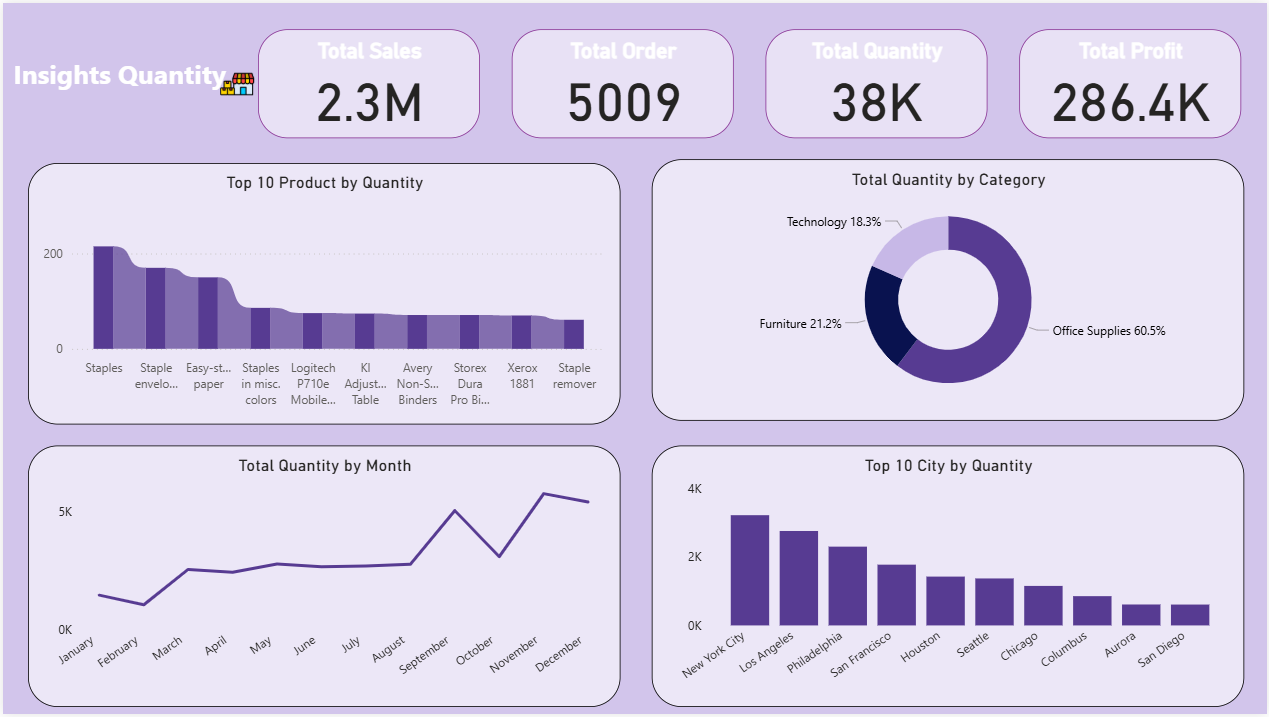

The page's visual inventory and layout, read from the dashboard file:
{"tool":"powerbi","page":{"name":"Page 6","canvas":[1280,720],"ordinal":5},"visuals":[{"type":"card","title":"Total Order","fields":{"Values":["Dax_Measure.Total orders"]},"box":[515.7,27,225,110],"z":0},{"type":"card","title":"Total Sales","fields":{"Values":["Dax_Measure.Total Sales"]},"box":[258.8,27,225,110],"z":1},{"type":"card","title":"Total Quantity","fields":{"Values":["Dax_Measure.Total Quantity"]},"box":[772.7,27,225,110],"z":2},{"type":"card","title":"Total Profit","fields":{"Values":["Dax_Measure.Total Profit"]},"box":[1029.7,27,225,110],"z":3},{"type":"textbox","box":[0,48.1,236.7,49.4],"z":4},{"type":"ribbonChart","title":"Top 10 Product by Quantity","fields":{"Category":["ProductDim.Product Name"],"Y":["Dax_Measure.Total Quantity"]},"box":[25.3,162,600,265],"z":5},{"type":"columnChart","title":"Top 10 City by Quantity","fields":{"Y":["Dax_Measure.Total Quantity"],"Category":["CustomerDim.City"]},"box":[657.5,447.6,600,265],"z":6},{"type":"donutChart","fields":{"Y":["Dax_Measure.Total Quantity"],"Category":["ProductDim.Category"]},"box":[657.5,158,600,265],"z":7},{"type":"lineChart","fields":{"Category":["DateDim.Order Date.Variation.Date Hierarchy.Year","DateDim.Order Date.Variation.Date Hierarchy.Quarter","DateDim.Order Date.Variation.Date Hierarchy.Month","DateDim.Order Date.Variation.Date Hierarchy.Day"],"Y":["Dax_Measure.Total Quantity"]},"box":[25.3,448.1,600,264.6],"z":8},{"type":"image","box":[215.2,48.1,44.3,68.4],"z":9}]}

Visuals, with their boxes in screenshot pixels (x1, y1, x2, y2), scaled from the page's 1280x720 canvas onto the 1269x717 screenshot:
"Total Order" card: 511/27/734/136
"Total Sales" card: 257/27/480/136
"Total Quantity" card: 766/27/989/136
"Total Profit" card: 1021/27/1244/136
textbox: 0/48/235/97
"Top 10 Product by Quantity" ribbonChart: 25/161/620/425
"Top 10 City by Quantity" columnChart: 652/446/1247/710
donutChart - Dax_Measure.Total Quantity x ProductDim.Category: 652/157/1247/421
lineChart - DateDim.Order Date.Variation.Date Hierarchy.Year x DateDim.Order Date.Variation.Date Hierarchy.Quarter: 25/446/620/710
image: 213/48/257/116
